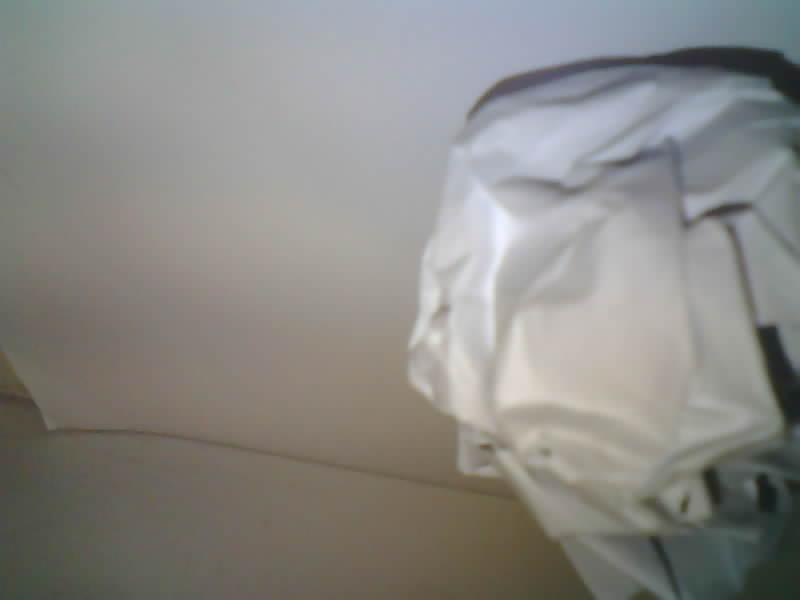biodegradable: (409, 48, 799, 599)
